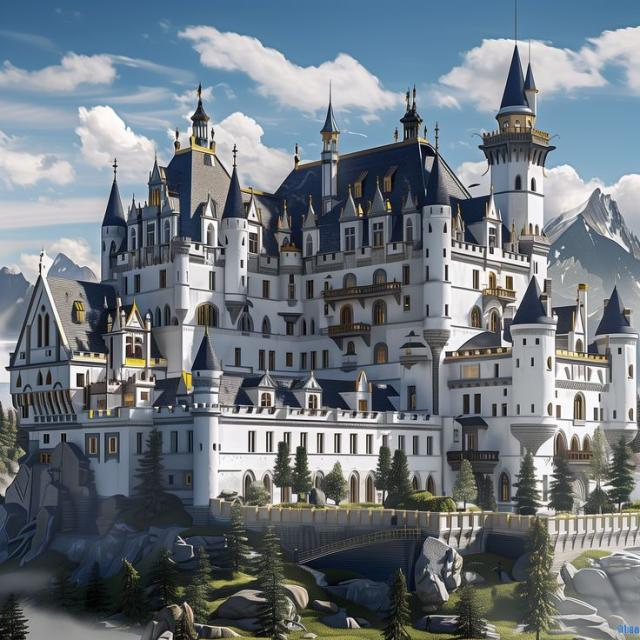castle: (5, 10, 640, 505)
